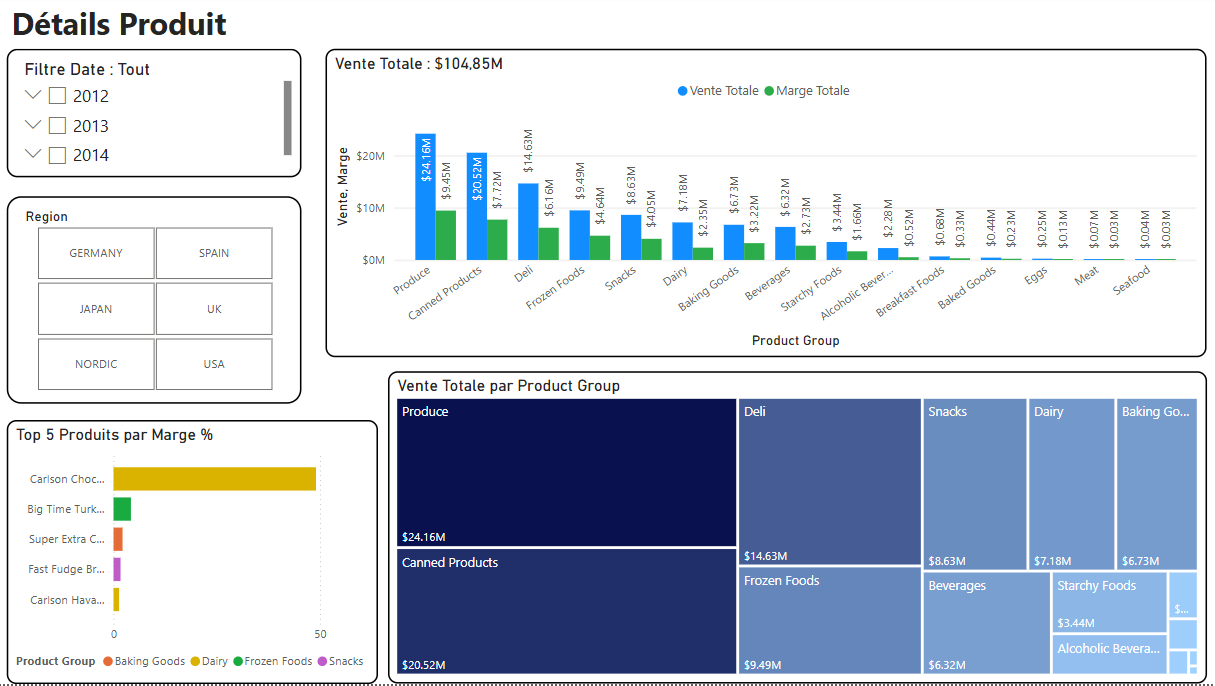

Layout of this report page (visuals, bound fields, positions):
{"tool":"powerbi","page":{"name":"Détails Produit","canvas":[1280,720],"ordinal":1},"visuals":[{"type":"slicer","fields":{"Values":["SalesOrder.Year Hiérarchie Custom.Year","SalesOrder.Year Hiérarchie Custom.Quarter","SalesOrder.Year Hiérarchie Custom.Month","SalesOrder.Year Hiérarchie Custom.Week"]},"box":[9.1,56.2,308.3,134.6],"z":0},{"type":"slicer","fields":{"Values":["Regions.Region"]},"box":[9.1,210.3,308.3,216.9],"z":1000},{"type":"textbox","box":[9.1,2.6,350.1,53.6],"z":2000},{"type":"clusteredColumnChart","fields":{"Category":["items.Product Group"],"Y":["SalesOrder.Ventes Totales","SalesOrder.Marge Totale"]},"box":[342.3,56.2,921,322.7],"z":3000},{"type":"treemap","fields":{"Values":["SalesOrder.Ventes Totales"],"Group":["items.Product Group Hiérarchie.Product Group","items.Product Group Hiérarchie.Product Line","items.Product Group Hiérarchie.Product Sub Group","items.Product Group Hiérarchie.Product Type","items.Product Group Hiérarchie.Item Desc"]},"box":[407.6,393.2,855.7,326.6],"z":4000},{"type":"barChart","title":"Top 5 Produits par Marge %","fields":{"Category":["SalesOrder.Item Desc"],"Y":["SalesOrder.Marge % par Produit"],"Series":["items.Product Group"]},"box":[9.1,444.2,388,275.6],"z":5000}]}

Visuals, with their boxes in screenshot pixels (x1, y1, x2, y2), scaled from the page's 1280x720 canvas onto the 1215x686 screenshot:
slicer - SalesOrder.Year Hiérarchie Custom.Year x SalesOrder.Year Hiérarchie Custom.Quarter: [9, 54, 301, 182]
slicer - Regions.Region: [9, 200, 301, 407]
textbox: [9, 2, 341, 54]
clusteredColumnChart - items.Product Group x SalesOrder.Ventes Totales: [325, 54, 1199, 361]
treemap - SalesOrder.Ventes Totales x items.Product Group Hiérarchie.Product Group: [387, 375, 1199, 685]
"Top 5 Produits par Marge %" barChart: [9, 423, 377, 685]
